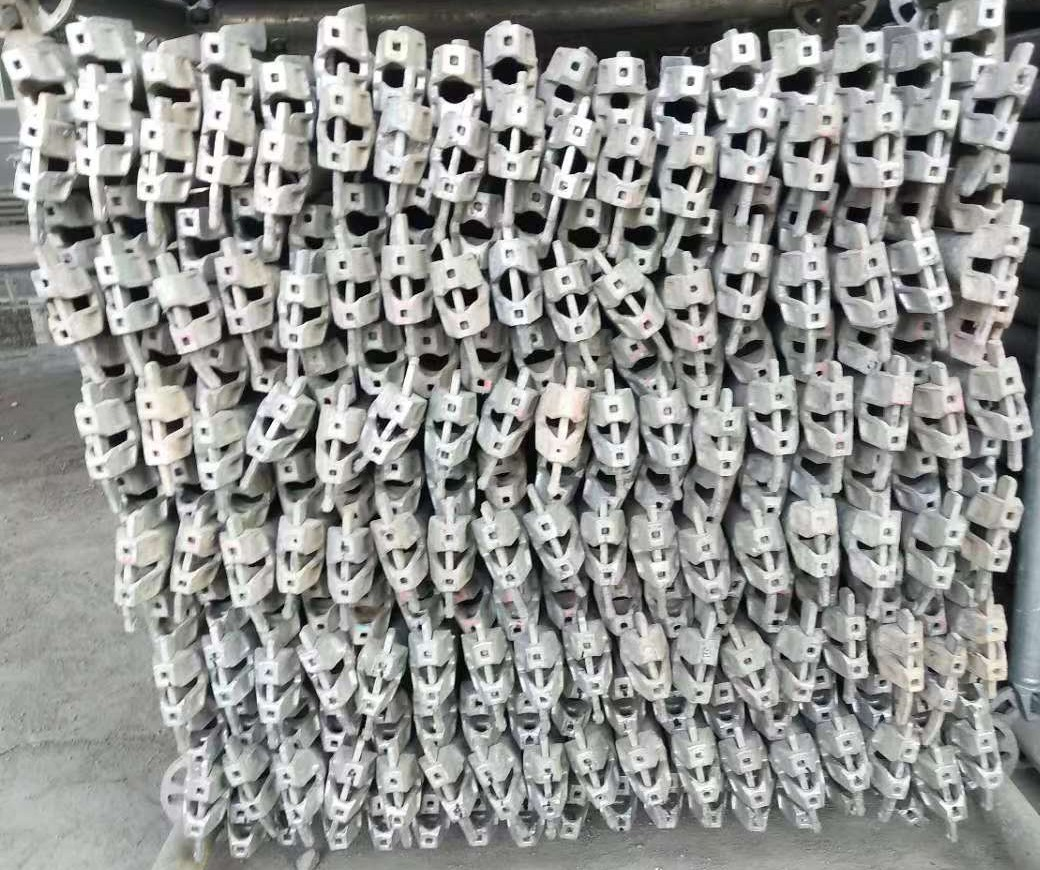THsquare_steel: (537, 42, 594, 122), (946, 1, 1001, 82), (505, 322, 570, 389), (833, 31, 891, 106), (655, 62, 712, 138), (428, 42, 483, 116), (487, 22, 539, 100), (377, 25, 426, 107), (35, 200, 94, 268), (894, 27, 946, 104), (593, 56, 651, 125), (774, 34, 828, 104), (97, 183, 148, 257), (713, 32, 764, 101), (614, 335, 673, 394), (1, 40, 64, 94), (724, 321, 778, 382), (338, 180, 385, 250), (63, 12, 125, 65), (353, 327, 404, 390), (200, 30, 253, 90), (136, 49, 196, 101), (677, 211, 723, 278), (171, 207, 214, 277), (462, 332, 511, 393), (621, 202, 663, 273), (314, 14, 364, 72), (256, 61, 312, 112), (227, 188, 266, 259), (965, 430, 1002, 496), (482, 457, 527, 509)
THsquare_steel_blocked: (968, 62, 1035, 152), (423, 114, 488, 204), (595, 260, 667, 341), (71, 87, 133, 176), (243, 388, 316, 462), (360, 385, 426, 466), (780, 105, 841, 192), (970, 221, 1030, 308), (839, 241, 898, 328), (90, 253, 152, 335), (154, 276, 220, 353), (846, 105, 907, 188), (540, 113, 598, 200), (373, 101, 433, 185), (373, 241, 433, 325), (315, 86, 374, 171), (246, 129, 306, 212), (72, 401, 135, 480), (773, 247, 832, 331), (897, 232, 957, 314), (660, 136, 719, 218), (429, 258, 488, 340), (128, 387, 190, 465), (8, 116, 66, 199), (489, 238, 543, 327), (322, 246, 377, 332), (133, 118, 189, 202), (903, 101, 959, 185), (211, 255, 271, 333), (723, 100, 779, 183), (476, 382, 536, 459), (423, 387, 480, 468), (974, 359, 1031, 440), (490, 99, 546, 181), (32, 269, 93, 344), (597, 132, 657, 208), (664, 272, 721, 352), (195, 102, 251, 183), (591, 389, 647, 469), (862, 372, 917, 453), (369, 517, 428, 592), (542, 265, 599, 342), (803, 378, 858, 456), (523, 512, 584, 582), (723, 239, 775, 321), (748, 380, 802, 458), (965, 492, 1017, 573), (770, 742, 831, 810), (677, 527, 733, 601), (415, 757, 477, 823), (640, 395, 696, 468), (474, 520, 533, 589), (626, 516, 683, 587), (915, 511, 965, 591), (423, 521, 477, 595), (795, 503, 847, 579), (692, 407, 750, 475), (275, 272, 324, 351), (925, 381, 974, 459), (736, 522, 790, 592), (510, 639, 566, 706), (566, 742, 622, 809), (724, 642, 781, 707), (104, 531, 153, 606), (469, 758, 527, 821), (853, 512, 903, 585), (216, 532, 264, 608), (190, 420, 240, 489), (326, 530, 372, 605), (583, 513, 629, 587), (626, 741, 676, 809), (726, 745, 779, 809), (522, 754, 573, 820), (247, 657, 296, 725), (872, 732, 921, 800), (273, 761, 324, 826), (318, 407, 361, 484), (823, 725, 873, 791), (221, 754, 272, 818), (624, 633, 673, 699), (923, 756, 972, 822), (153, 657, 199, 727), (879, 628, 927, 695), (464, 637, 513, 702), (568, 630, 617, 695), (303, 645, 352, 709), (200, 640, 246, 708), (677, 638, 725, 703), (166, 527, 212, 594), (409, 637, 454, 705), (322, 762, 373, 822), (831, 612, 874, 682), (682, 738, 728, 803), (924, 651, 973, 712), (278, 522, 319, 594), (357, 653, 403, 716), (377, 767, 423, 830), (962, 726, 1007, 790), (782, 638, 826, 703), (972, 619, 1015, 682), (182, 777, 219, 839)
